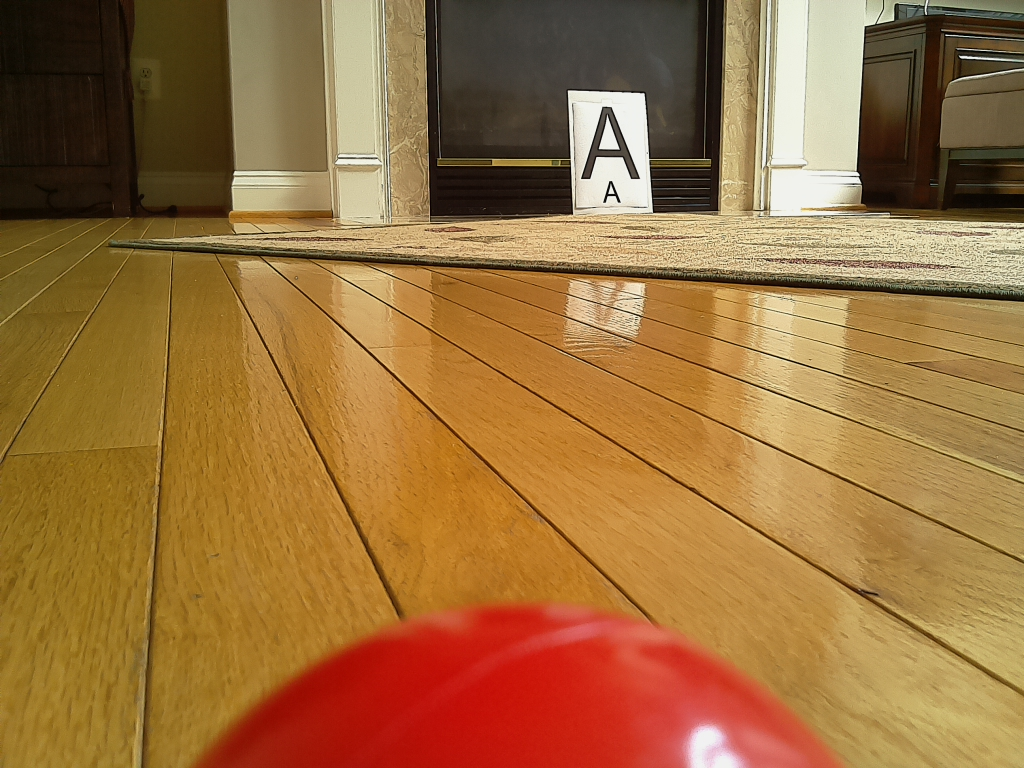letter: (581, 107, 643, 180)
